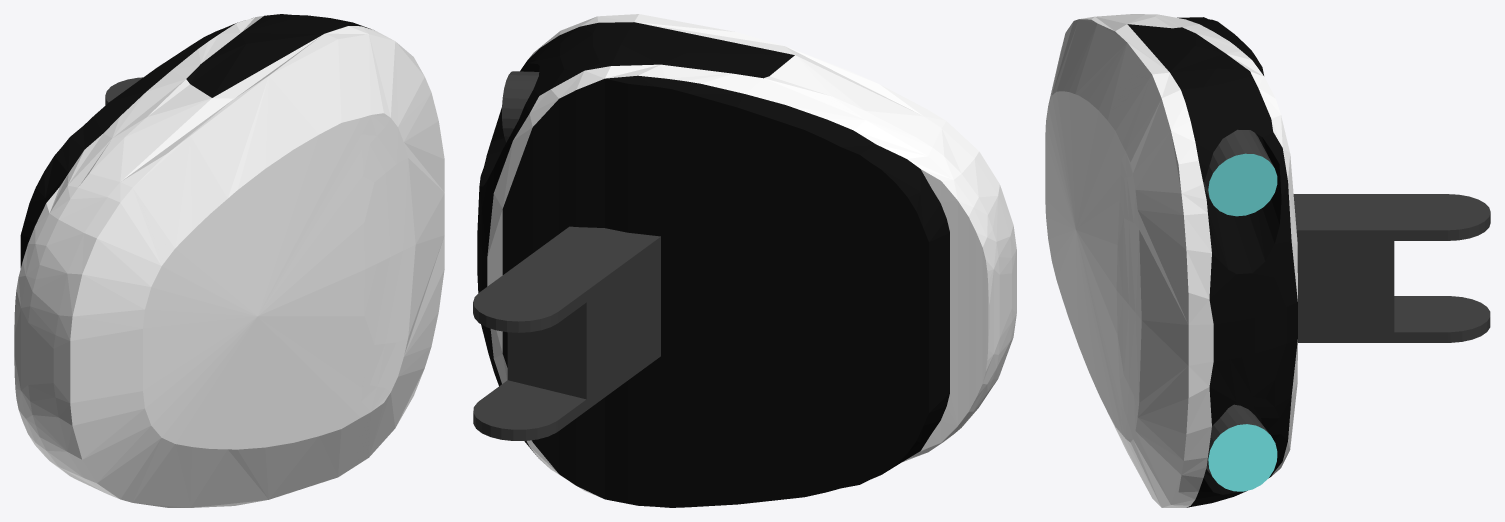
Rendered from HEAD_JOINT1_Link_mesh.dae.
The picture shows the model from 3 angles, left to right: view 1: azimuth 30°, elevation 25°; view 2: azimuth 150°, elevation 25°; view 3: azimuth 270°, elevation 25°; orthographic projection. The views are drawn at different scales.
Visible parts, largest first — view 1: HEAD_JOINT1_Link (×2); view 2: HEAD_JOINT1_Link (×3); view 3: HEAD_JOINT1_Link (×4).
Boxes of the visible parts, x1,y1,x2,y2 form: HEAD_JOINT1_Link (×2): (14, 14, 444, 507); HEAD_JOINT1_Link (×3): (473, 14, 1016, 507); HEAD_JOINT1_Link (×4): (1045, 14, 1490, 507).
Bounding box in the file's own units: 0.2385 × 0.2181 × 0.2079.
